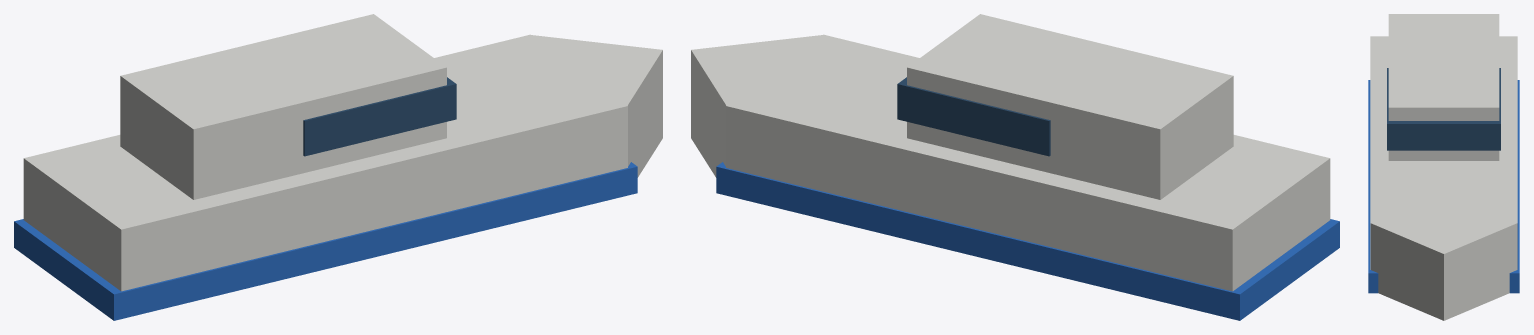
The model's file is yacht.glb.
The picture shows the model from 3 angles, left to right: view 1: azimuth 30°, elevation 25°; view 2: azimuth 150°, elevation 25°; view 3: azimuth 270°, elevation 25°; orthographic projection. The views are drawn at different scales.
Parts seen in each view (by area): view 1: yacht; view 2: yacht; view 3: yacht.
Part boxes in pixels (left/top/right/bottom): yacht: left=14, top=14, right=662, bottom=320; yacht: left=691, top=14, right=1339, bottom=320; yacht: left=1368, top=14, right=1519, bottom=320.
Bounding box in the file's own units: 0.709 × 0.18 × 0.205.
